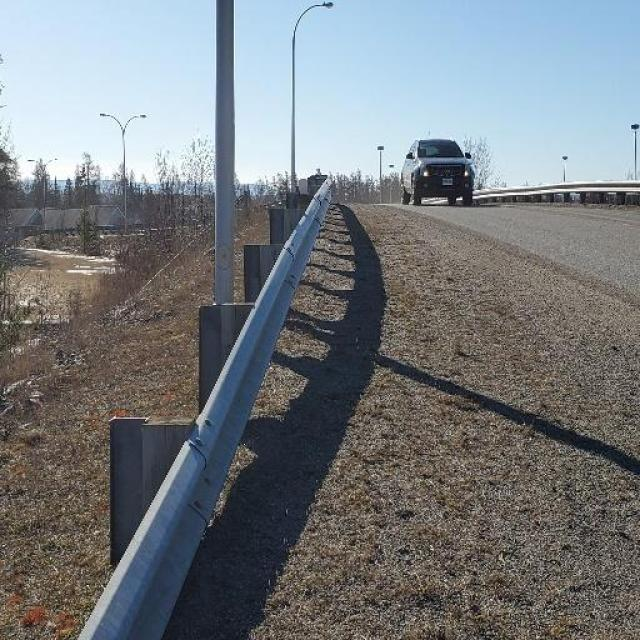Guard rail: (60, 161, 347, 640), (477, 178, 640, 208)
